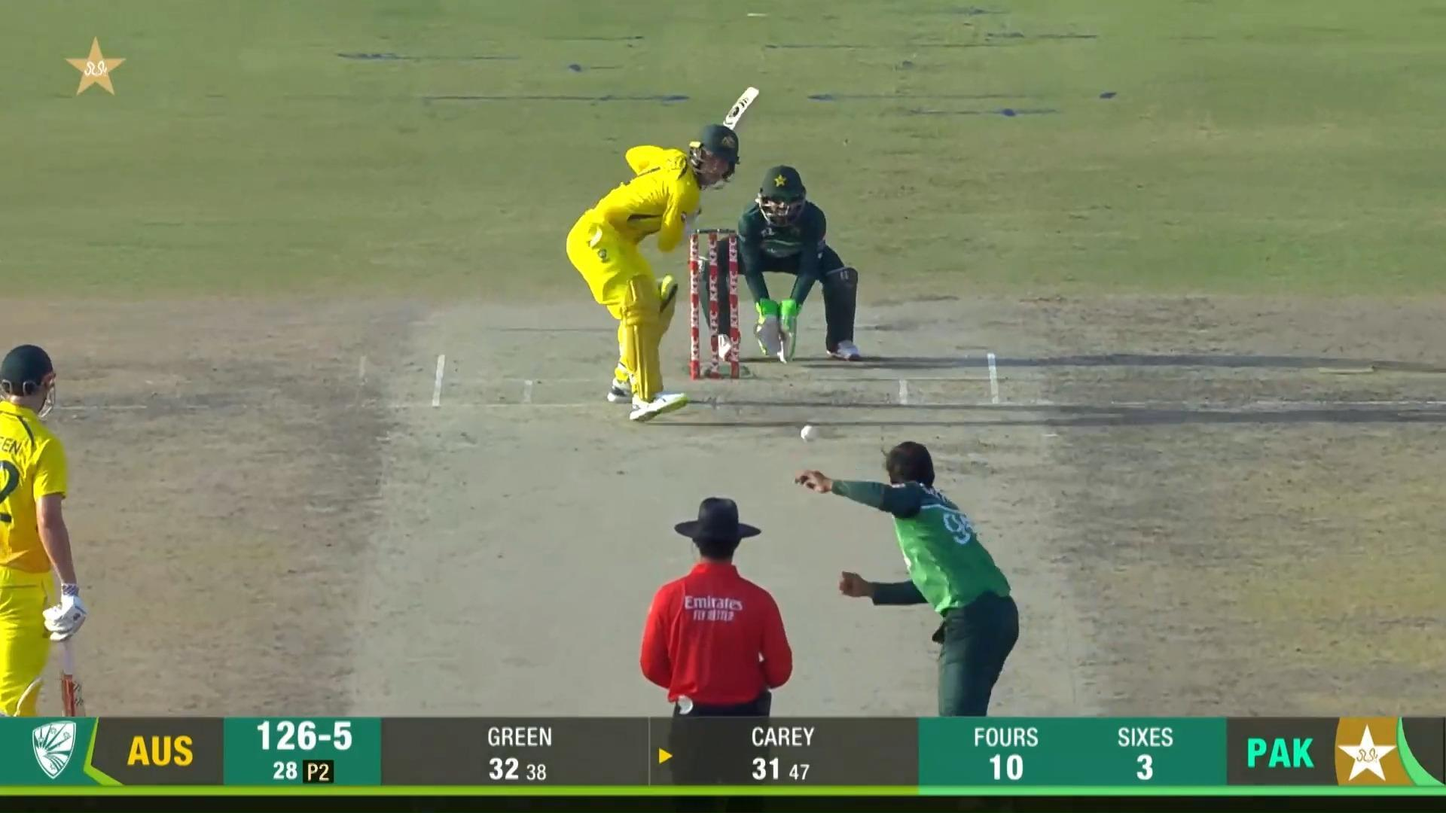BM 1: (564, 80, 764, 425)
BO: (794, 438, 1023, 813)
